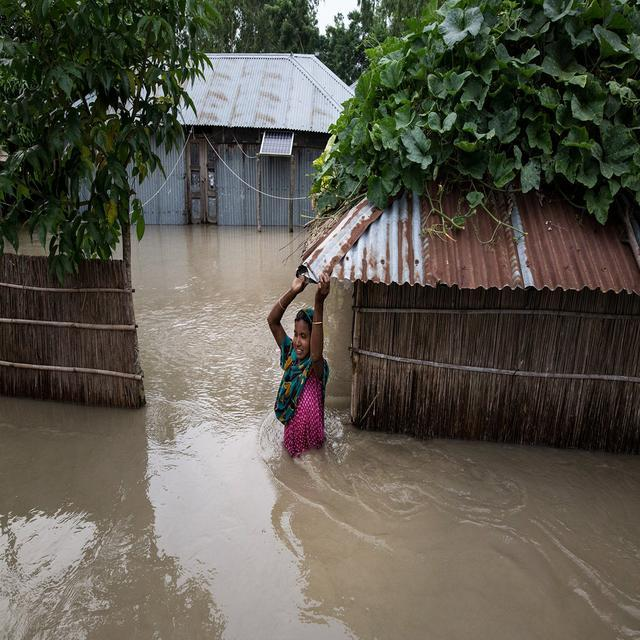Person-RiskLevel3: (256, 263, 349, 481)
